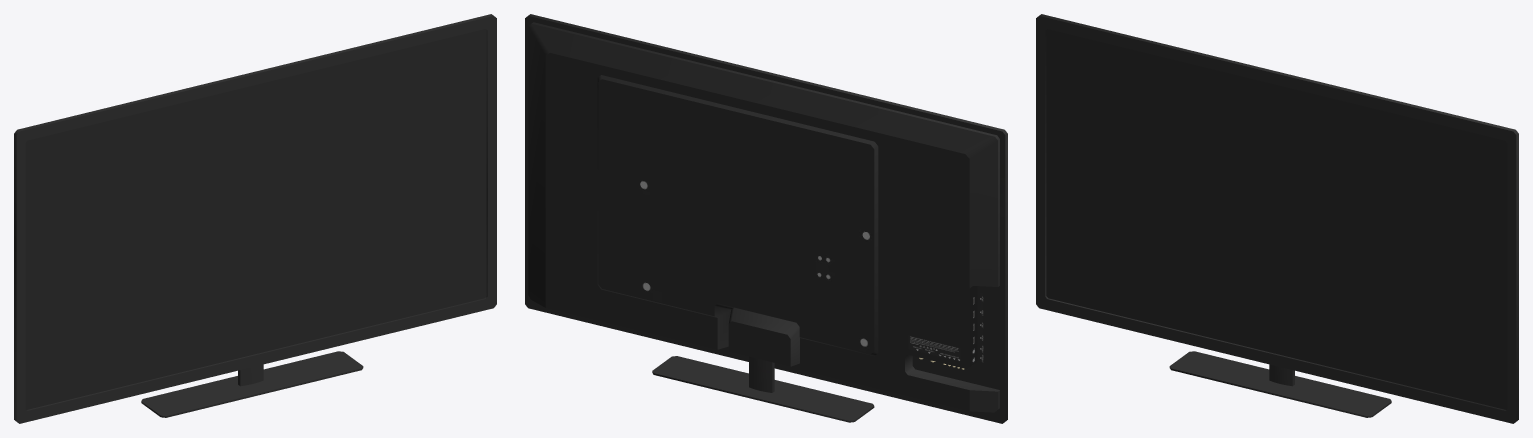
The model's file is tv_flat.glb.
The picture shows the model from 3 angles, left to right: view 1: azimuth 30°, elevation 25°; view 2: azimuth 150°, elevation 25°; view 3: azimuth 330°, elevation 25°; orthographic projection.
Visible parts, largest first — view 1: tv_flat; view 2: tv_flat; view 3: tv_flat.
Boxes of the visible parts, left/top/right/bottom form: tv_flat: left=14, top=14, right=496, bottom=423; tv_flat: left=525, top=14, right=1007, bottom=423; tv_flat: left=1036, top=14, right=1518, bottom=423.
Size of the model in its own units: 1.05 by 0.6633 by 0.0889.
Materials: 1 (1 with a texture image).
